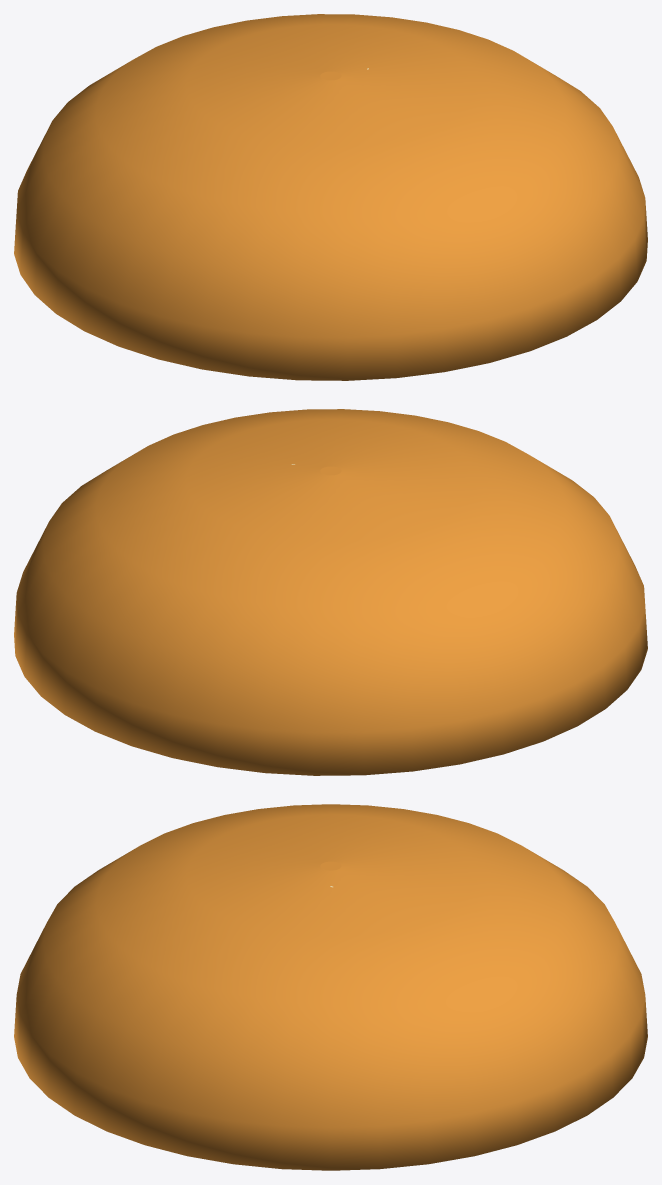
File: bun_top.glb
The picture shows the model from 3 angles, top to bottom: view 1: azimuth 30°, elevation 25°; view 2: azimuth 150°, elevation 25°; view 3: azimuth 270°, elevation 25°; orthographic projection.
Visible parts, largest first — view 1: Brioche crown; view 2: Brioche crown; view 3: Brioche crown.
Part boxes in pixels (x1,y1,x2,y2): Brioche crown: (14,14,647,380); Brioche crown: (14,409,647,775); Brioche crown: (14,804,647,1170).
Size of the model in its own units: 0.478 by 0.155 by 0.478.
